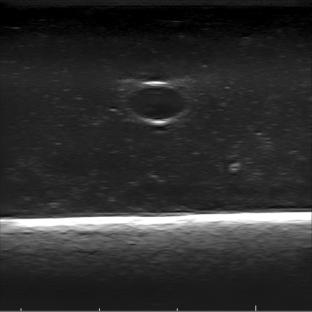vessel: (126, 80, 191, 125)
